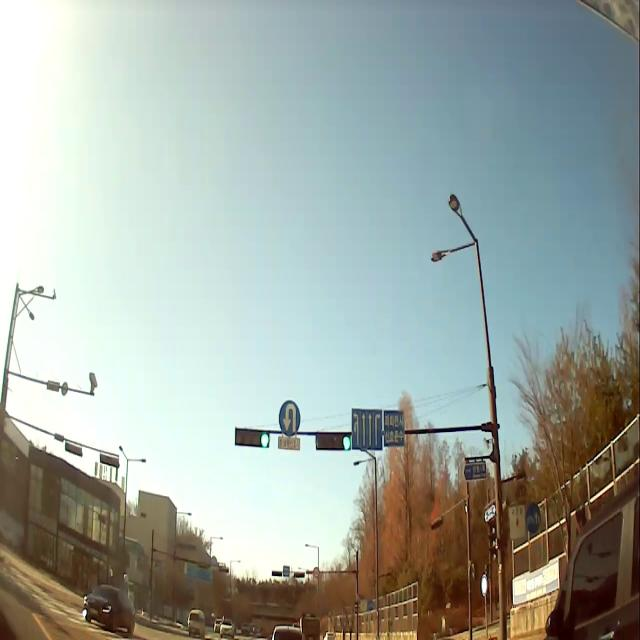Green Light: (260, 430, 270, 450), (341, 434, 351, 451)
